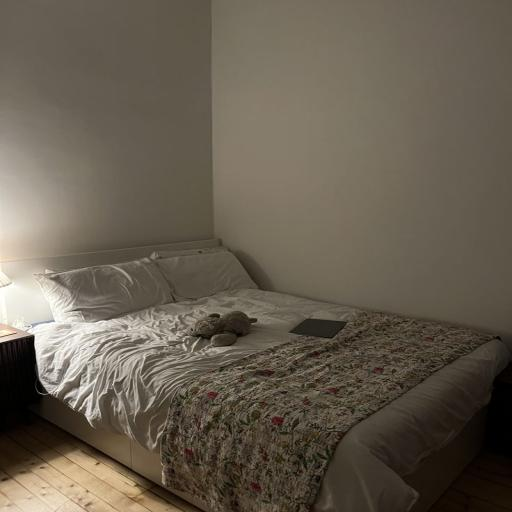person: (16, 232, 511, 511)
